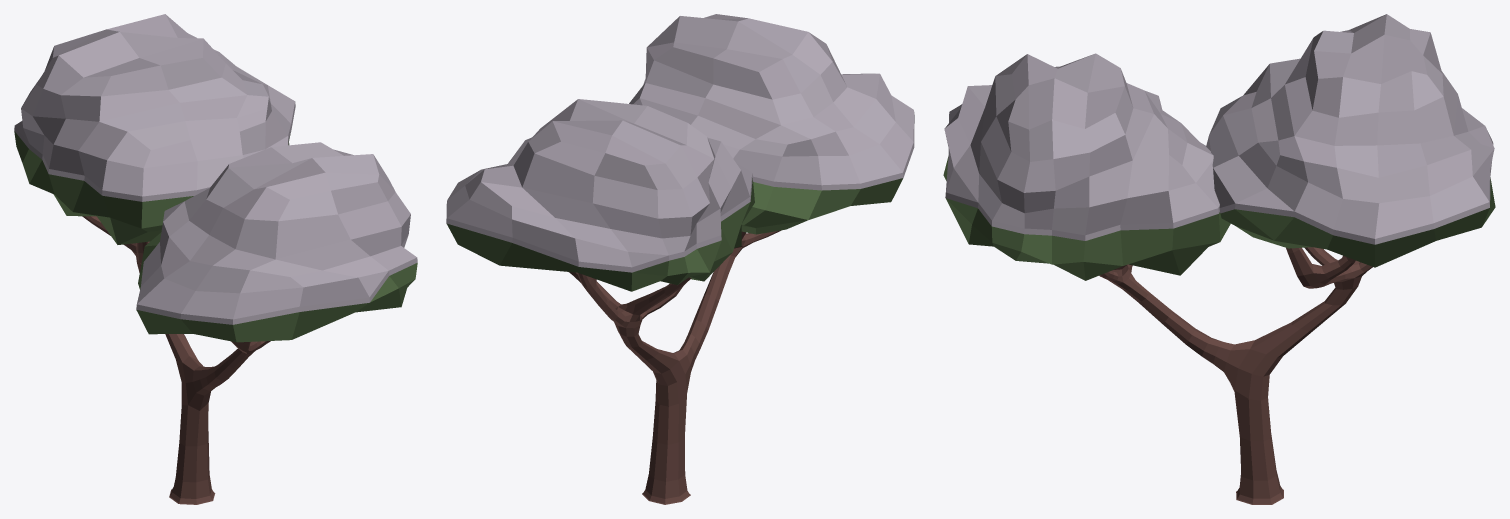
File: CommonTree_Snow_1.glb
The picture shows the model from 3 angles, left to right: view 1: azimuth 30°, elevation 25°; view 2: azimuth 150°, elevation 25°; view 3: azimuth 270°, elevation 25°; orthographic projection. The views are drawn at different scales.
Visible parts, largest first — view 1: CommonTree_Snow_1; view 2: CommonTree_Snow_1; view 3: CommonTree_Snow_1.
Boxes of the visible parts, bbox=[...] form: CommonTree_Snow_1: bbox=[14, 14, 417, 504]; CommonTree_Snow_1: bbox=[446, 14, 914, 504]; CommonTree_Snow_1: bbox=[943, 14, 1495, 504].
Bounding box in the file's own units: 1.89 × 2.51 × 2.77.
